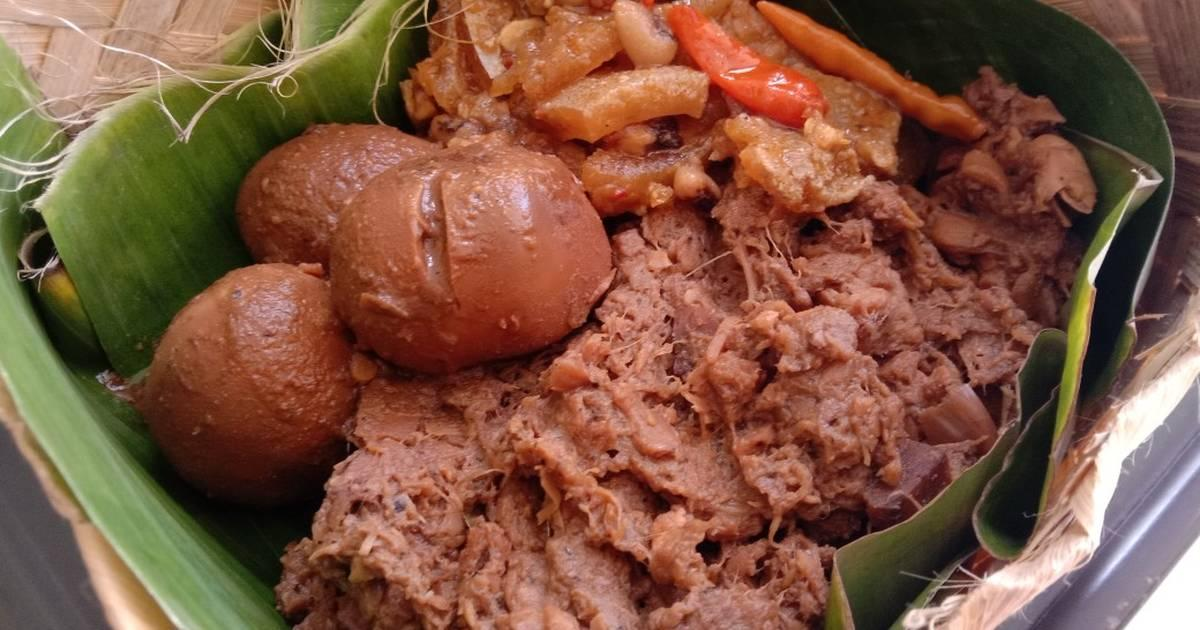gudeg: (149, 5, 1098, 630)
